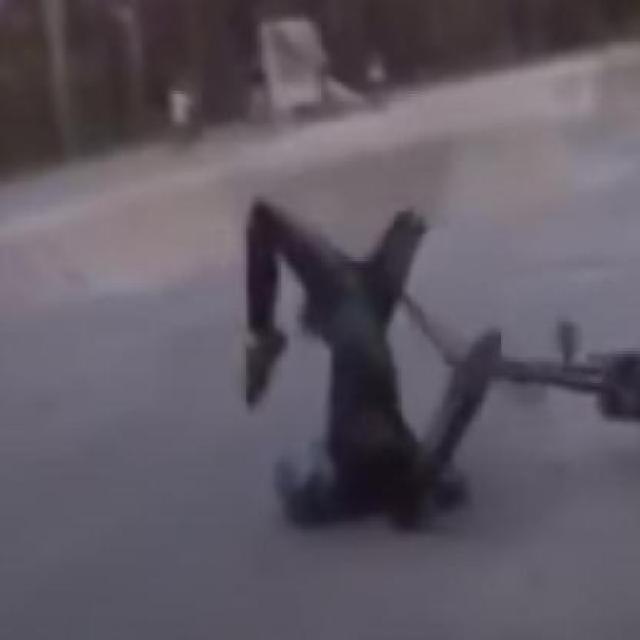fall: (241, 189, 467, 514)
